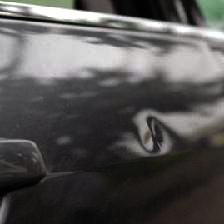door_dent: (105, 93, 184, 160)
